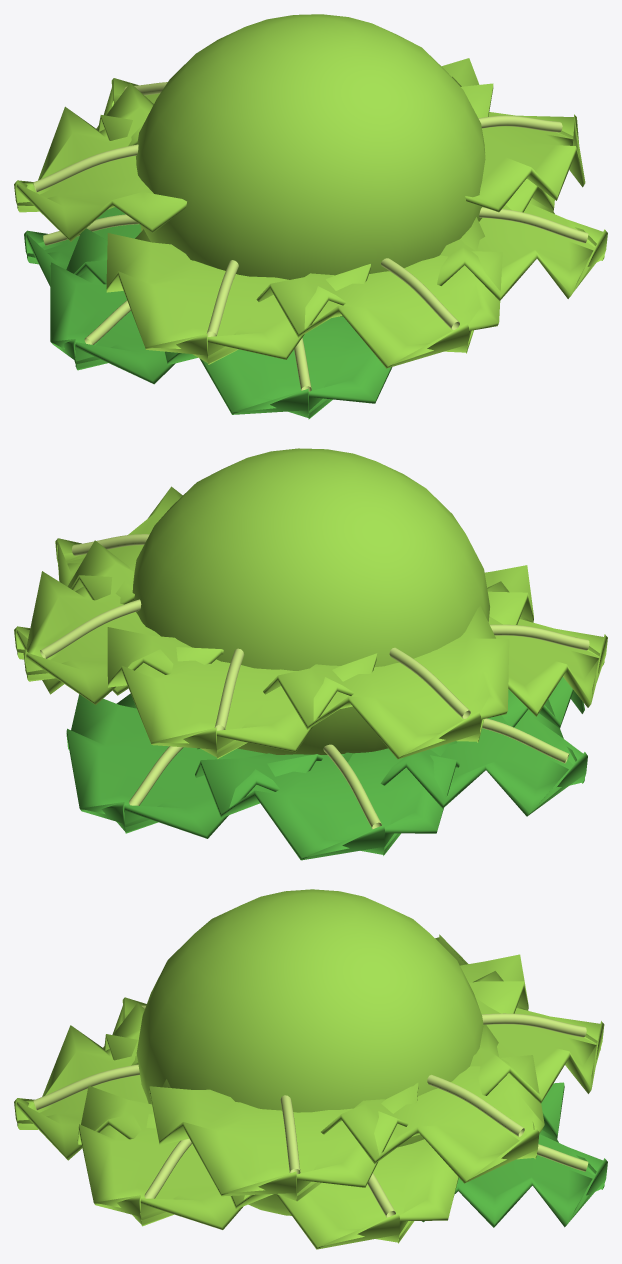
File: lettuce.glb
3 views of the same model, one above another, from view 1: azimuth 30°, elevation 25°; view 2: azimuth 150°, elevation 25°; view 3: azimuth 270°, elevation 25° (orthographic).
Visible parts, largest first — view 1: lettuce_mesh; view 2: lettuce_mesh; view 3: lettuce_mesh.
Part boxes in pixels (x1=…): lettuce_mesh: x1=14, y1=14, x2=607, y2=419; lettuce_mesh: x1=14, y1=448, x2=607, y2=860; lettuce_mesh: x1=14, y1=889, x2=607, y2=1249.
Size of the model in its own units: 0.2875 by 0.155 by 0.2873.
